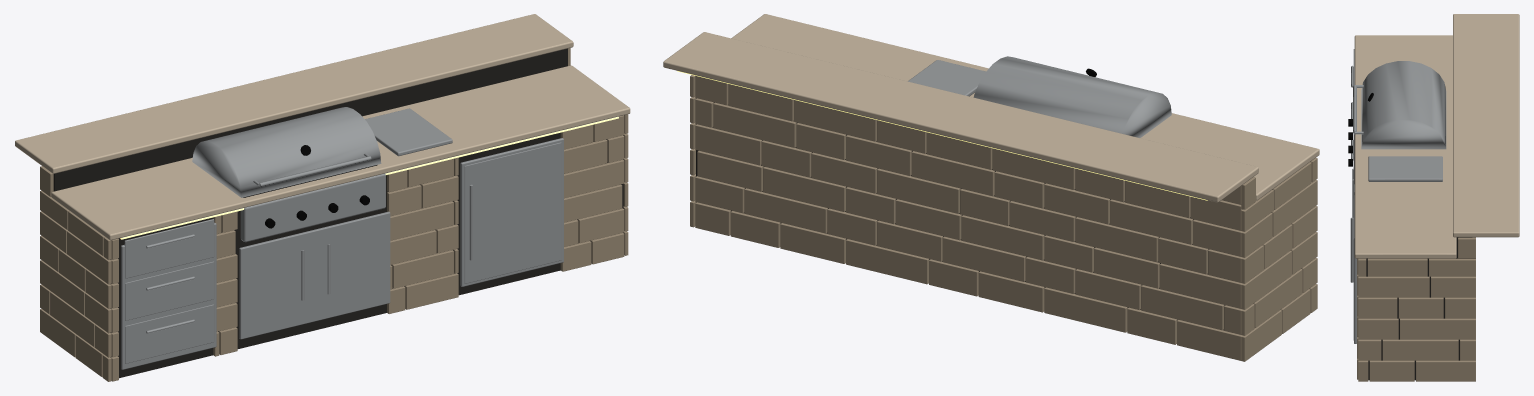
File: kitchen-island-lod1.glb
3 views of the same model, side by side, from view 1: azimuth 30°, elevation 25°; view 2: azimuth 150°, elevation 25°; view 3: azimuth 270°, elevation 25° (orthographic). The views are drawn at different scales.
Parts seen in each view (by area): view 1: Brushed stainless steel, Honed warm quartz counter, Greyed nickel stone veneer, Recessed joint, Warm LED strip, 2700 K; view 2: Greyed nickel stone veneer, Honed warm quartz counter, Brushed stainless steel, Warm LED strip, 2700 K; view 3: Honed warm quartz counter, Greyed nickel stone veneer, Brushed stainless steel, Recessed joint, Black control knob.
Part boxes in pixels (bbox=[...]): Brushed stainless steel: bbox=[121, 107, 563, 369]; Honed warm quartz counter: bbox=[15, 14, 630, 240]; Greyed nickel stone veneer: bbox=[40, 48, 628, 381]; Recessed joint: bbox=[53, 48, 623, 378]; Warm LED strip, 2700 K: bbox=[120, 116, 618, 239]; Greyed nickel stone veneer: bbox=[690, 75, 1317, 361]; Honed warm quartz counter: bbox=[663, 14, 1319, 202]; Brushed stainless steel: bbox=[908, 56, 1171, 137]; Warm LED strip, 2700 K: bbox=[677, 71, 1207, 200]; Honed warm quartz counter: bbox=[1354, 14, 1519, 258]; Greyed nickel stone veneer: bbox=[1357, 237, 1475, 381]; Brushed stainless steel: bbox=[1350, 49, 1446, 343]; Recessed joint: bbox=[1366, 237, 1471, 380]; Black control knob: bbox=[1348, 93, 1373, 166].
Bounding box in the file's own units: 3.35 × 1.14 × 1.11.
